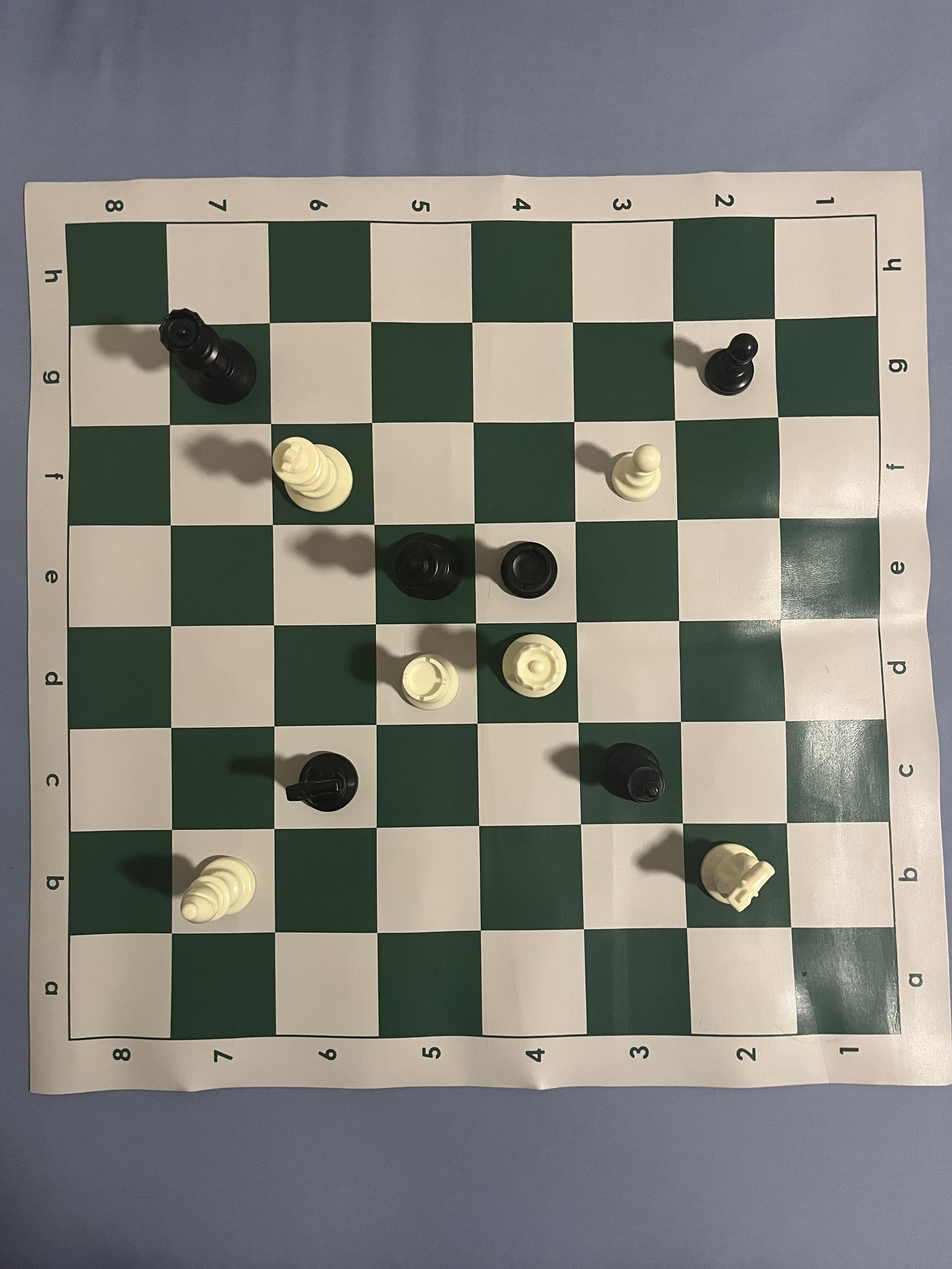black_bishop: (597, 742, 667, 805)
black_king: (389, 531, 464, 602)
black_knight: (284, 751, 361, 814)
black_pawn: (703, 331, 760, 398)
black_queen: (157, 307, 259, 408)
black_rook: (498, 539, 560, 601)
white_bishop: (177, 853, 258, 924)
white_king: (270, 435, 355, 514)
white_knight: (698, 840, 778, 914)
white_pawn: (609, 442, 663, 505)
white_queen: (499, 632, 569, 701)
white_rook: (401, 652, 461, 712)
